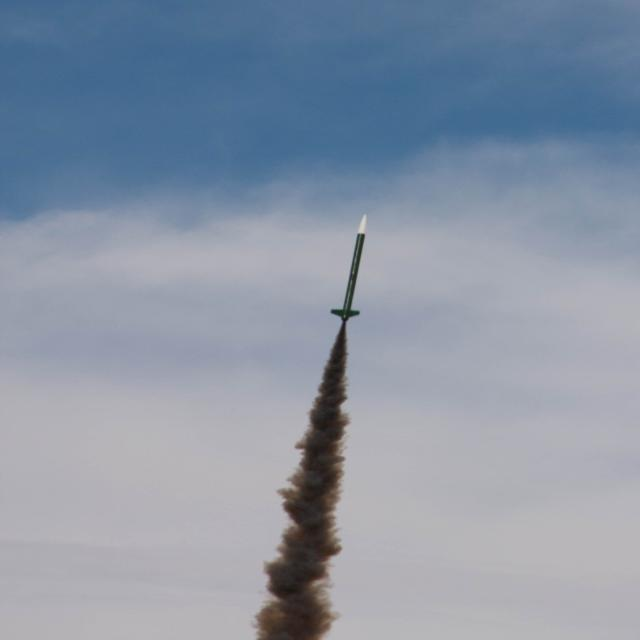Rocket: (330, 214, 367, 322)
